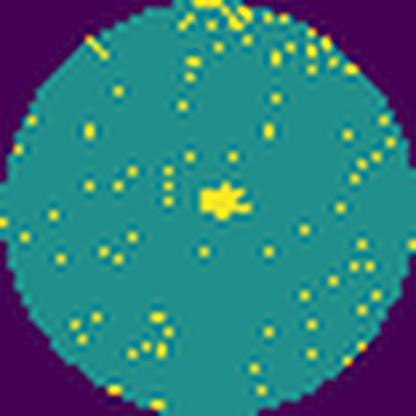Center: (200, 181, 253, 222)
